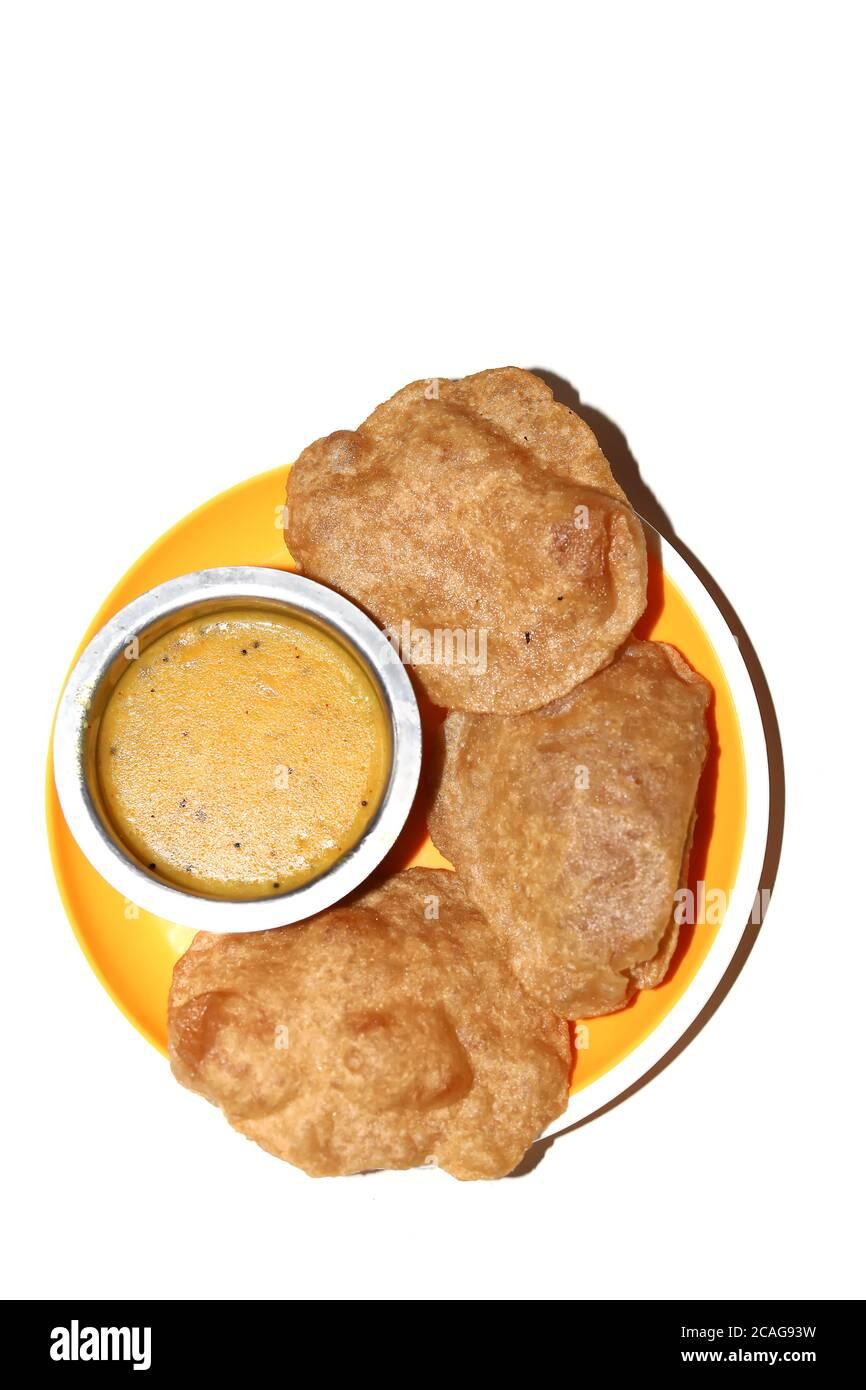puri: (387, 363, 733, 1170)
